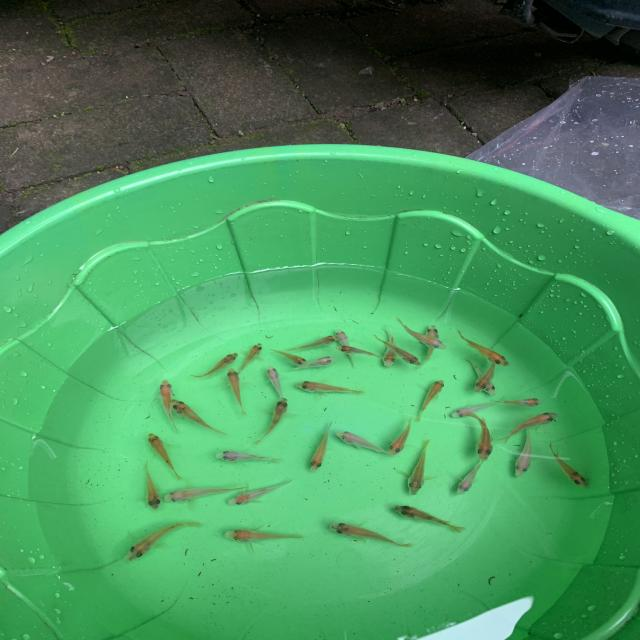nila: (123, 519, 209, 564), (326, 519, 418, 549), (159, 481, 251, 508), (224, 476, 298, 509), (546, 440, 592, 492), (144, 430, 189, 482), (391, 500, 464, 532), (456, 328, 514, 368), (496, 410, 561, 444), (166, 398, 225, 434), (249, 396, 291, 446), (397, 318, 455, 352), (404, 439, 438, 497), (219, 524, 316, 544), (461, 408, 495, 464), (462, 352, 501, 400), (151, 374, 185, 428), (446, 396, 511, 424), (372, 334, 424, 368), (186, 349, 242, 380), (286, 377, 368, 398), (414, 374, 449, 423), (332, 428, 397, 454), (209, 445, 289, 466), (383, 411, 418, 459), (305, 417, 334, 474), (453, 453, 488, 497), (513, 421, 538, 482), (139, 456, 166, 512), (329, 325, 363, 369), (232, 338, 266, 378), (224, 366, 251, 416), (472, 351, 502, 393), (485, 391, 550, 410), (284, 353, 336, 376), (257, 364, 289, 401), (286, 330, 339, 350), (416, 322, 440, 366), (377, 327, 401, 369), (265, 347, 312, 368), (334, 344, 386, 360)
